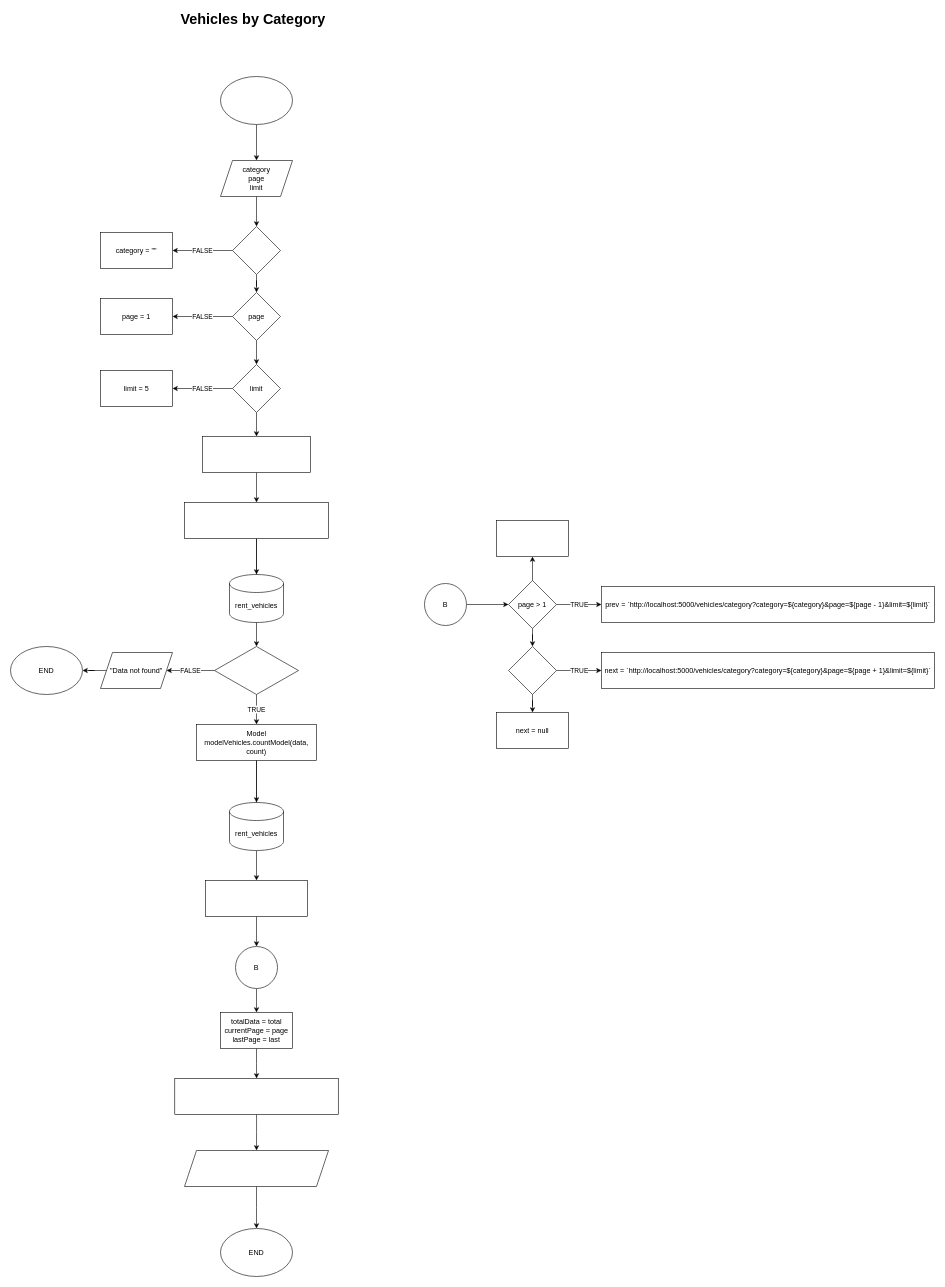
This 945x1287 diagram has some shape labels left out. Here are the shapes that lost their labels. From the top down, the centre of each, then its label:
pixel 256 100: START
pixel 256 250: category
pixel 256 454: offset = (page -1) * limit data = {category, limit, offset}
pixel 256 520: MODEL modelVehicle.getVehicles(data, results)
pixel 532 538: prev = null
pixel 256 670: results.LENGTH > 0
pixel 532 670: page < last
pixel 256 898: {total} = count[0] last = MATH.CEIL(total / limit)
pixel 256 1096: page: { prev, next, totalData, currentPage, lastPage },
pixel 256 1168: success: true, message: `List vehicles by category`, results, page
